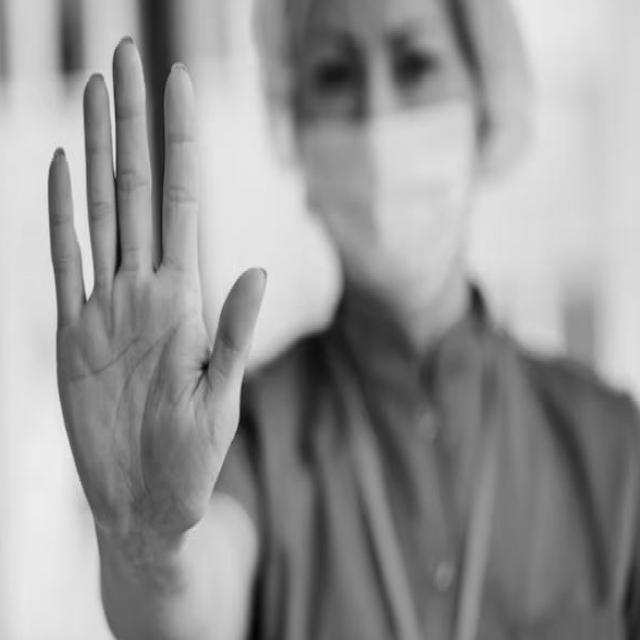stop: (43, 25, 274, 554)
